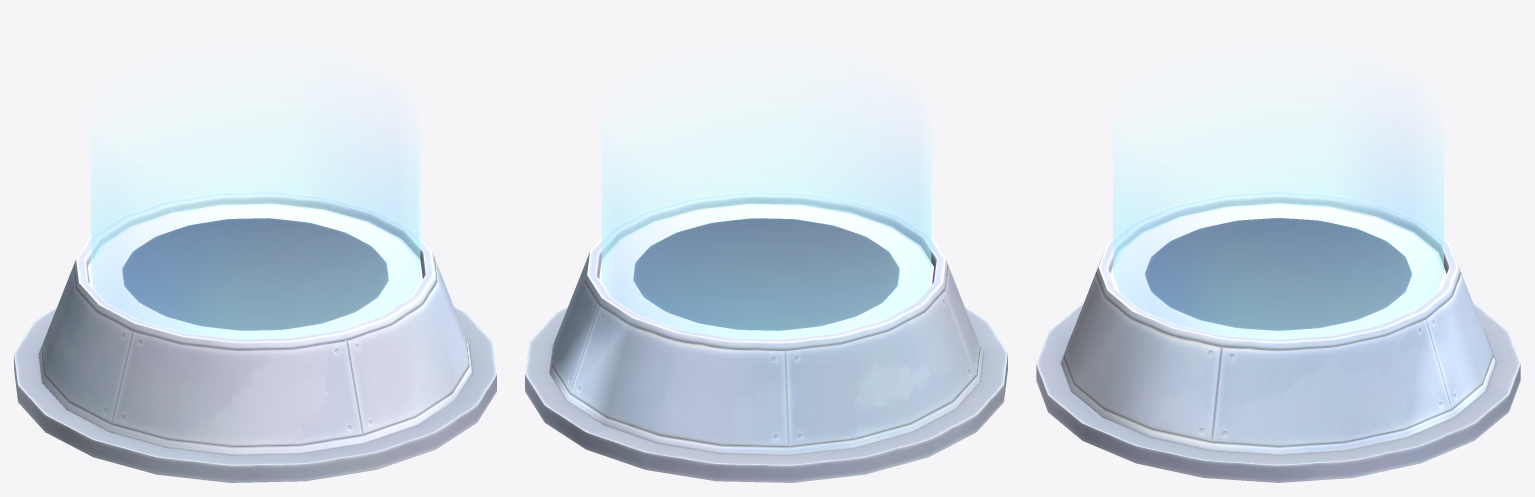
The picture shows the model from 3 angles, left to right: view 1: azimuth 30°, elevation 25°; view 2: azimuth 150°, elevation 25°; view 3: azimuth 270°, elevation 25°; orthographic projection.
Parts seen in each view (by area): view 1: capsule; view 2: capsule; view 3: capsule.
Boxes of the visible parts, x1=… form: capsule: x1=14, y1=100, x2=496, y2=482; capsule: x1=525, y1=100, x2=1007, y2=482; capsule: x1=1036, y1=100, x2=1520, y2=482.
Bounding box in the file's own units: 1.48 × 0.9983 × 1.48.
Materials: 3 (2 with a texture image).
